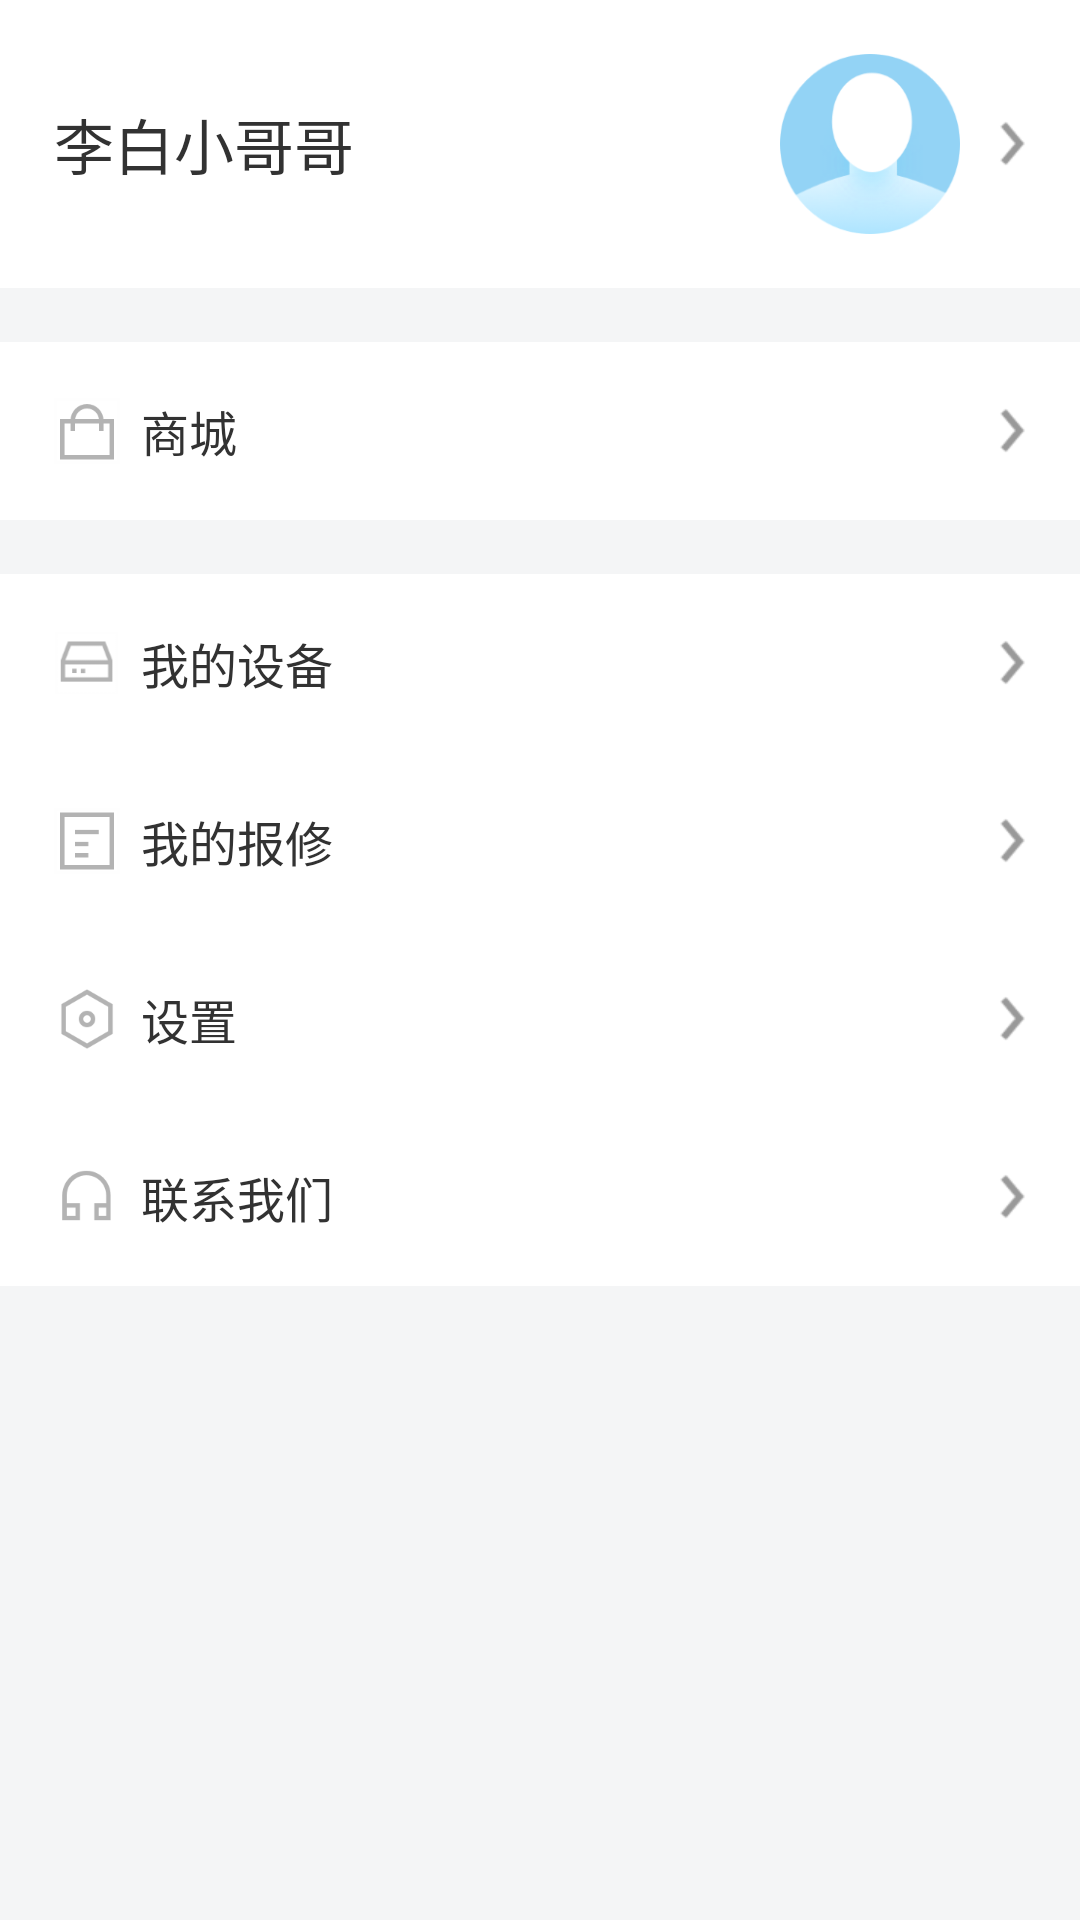

Screen size 1080 × 1920. Icon name, then its box in pixels as (x1, y1, x2, y2):
devices: (61, 641, 113, 682)
head portrait: (780, 54, 960, 234)
unfolded: (1001, 122, 1024, 165), (1001, 409, 1024, 452), (1001, 641, 1024, 684), (1001, 819, 1024, 862), (1001, 997, 1024, 1040), (1001, 1175, 1024, 1218)
